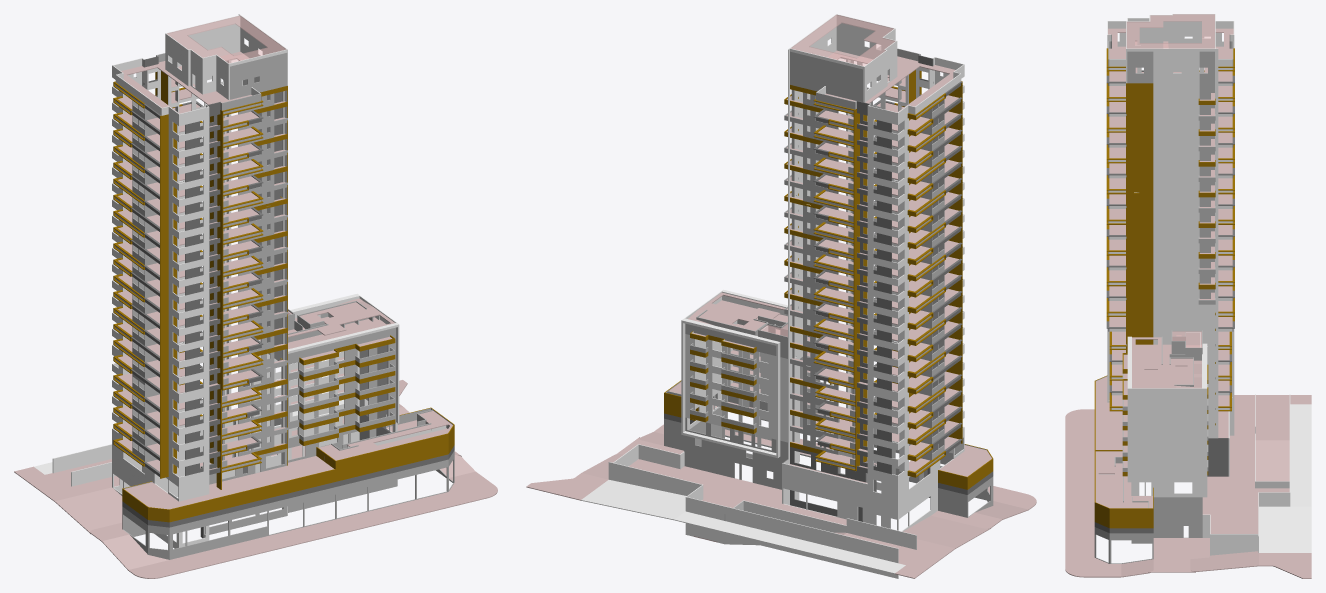
The model's file is ArchBoaVista3D.glb.
3 views of the same model, side by side, from view 1: azimuth 30°, elevation 25°; view 2: azimuth 150°, elevation 25°; view 3: azimuth 270°, elevation 25° (orthographic). The views are drawn at different scales.
Parts seen in each view (by area): view 1: 3DGeom-1, 3DGeom-2, 3DGeom-6, 3DGeom-3, 3DGeom-4, 3DGeom-7; view 2: 3DGeom-2, 3DGeom-1, 3DGeom-6, 3DGeom-3, 3DGeom-4, 3DGeom-7; view 3: 3DGeom-2, 3DGeom-6, 3DGeom-3, 3DGeom-1, 3DGeom-4, 3DGeom-7.
Part boxes in pixels (x1,y1,x2,y2): 3DGeom-1: [115, 53, 454, 559]; 3DGeom-2: [34, 14, 446, 548]; 3DGeom-6: [14, 51, 497, 578]; 3DGeom-3: [113, 71, 454, 522]; 3DGeom-4: [122, 56, 454, 538]; 3DGeom-7: [167, 15, 292, 314]; 3DGeom-2: [581, 14, 964, 578]; 3DGeom-1: [664, 41, 993, 517]; 3DGeom-6: [526, 50, 1036, 578]; 3DGeom-3: [664, 70, 993, 489]; 3DGeom-4: [664, 55, 993, 524]; 3DGeom-7: [761, 14, 895, 336]; 3DGeom-2: [1099, 14, 1311, 555]; 3DGeom-6: [1065, 28, 1311, 578]; 3DGeom-3: [1094, 48, 1234, 528]; 3DGeom-1: [1094, 41, 1233, 563]; 3DGeom-4: [1094, 34, 1234, 533]; 3DGeom-7: [1126, 14, 1214, 347].
Bounding box in the file's own units: 0.1668 × 0.1943 × 0.0965.
